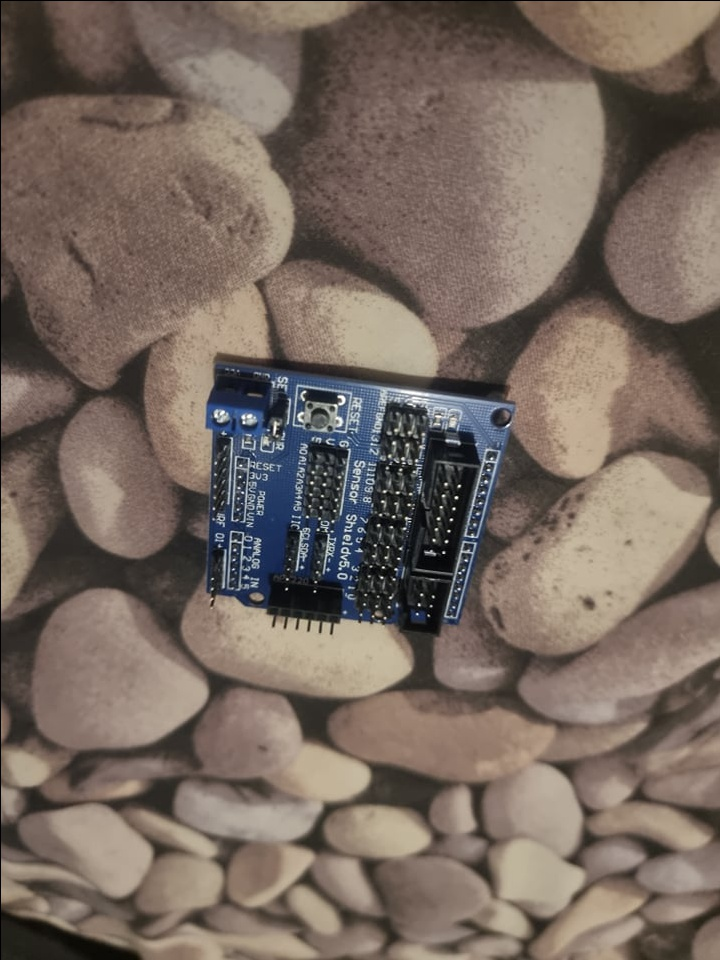5V EXPANSION: (201, 350, 516, 641)
